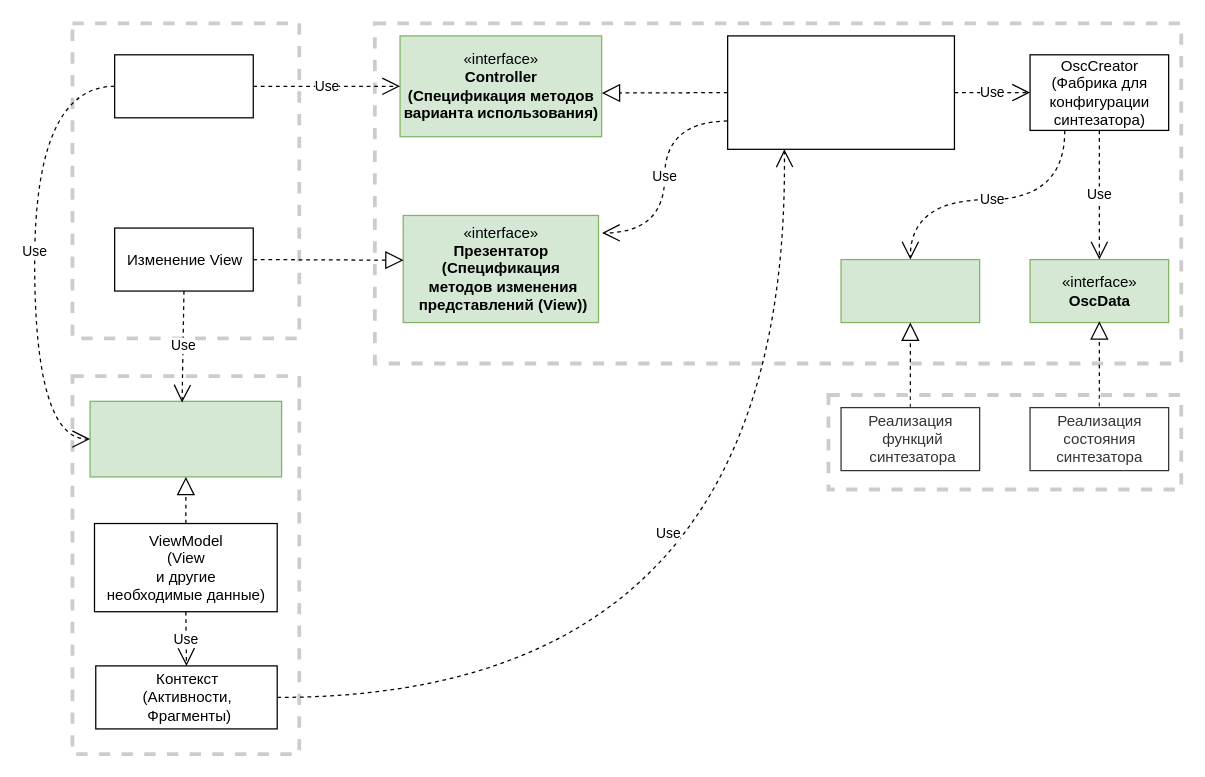
The diagram is 1205 pixels wide and 777 high, and some of its shapes have lost their labels. Here are the shapes that lost their labels. From the top down, the box of each, then its label:
(113, 54, 253, 118): Привязка слушателей из UI
(726, 35, 954, 149): Вариант использования (организатор взаимодействия между компонентами)
(840, 258, 980, 323): «interface» OscFunctions
(89, 400, 282, 477): «interface» Спецификация методов выдачи представлений
